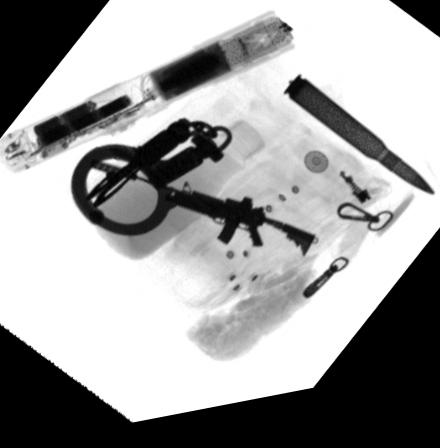Baton: (0, 20, 295, 175)
Bullet: (283, 85, 437, 214)
Gun: (82, 161, 316, 270)
HandCuffs: (70, 123, 233, 237)
